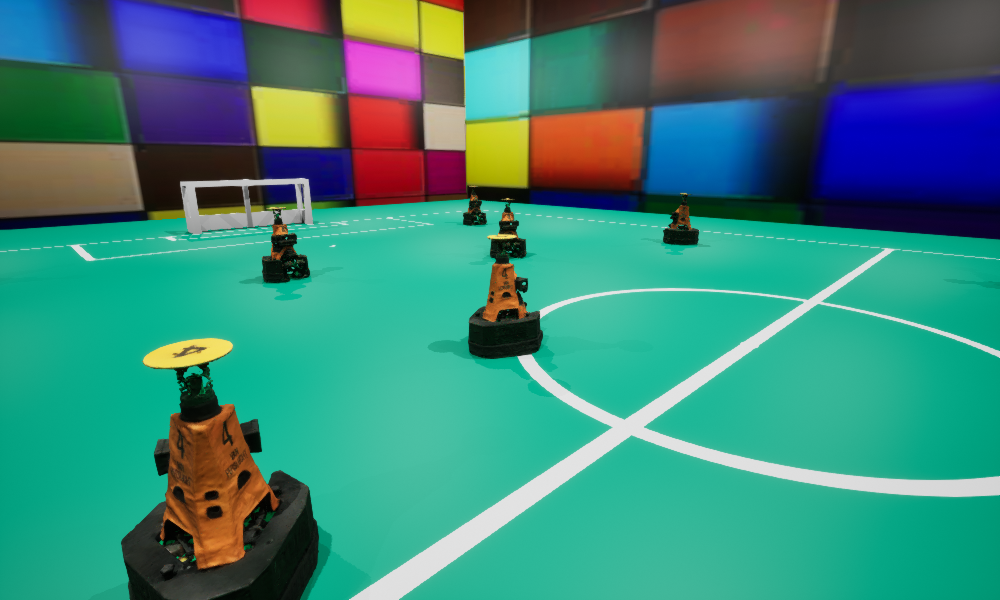o: (121, 338, 318, 599), (468, 234, 542, 358), (262, 207, 309, 282), (490, 198, 526, 258), (663, 193, 698, 244), (463, 186, 486, 225)
